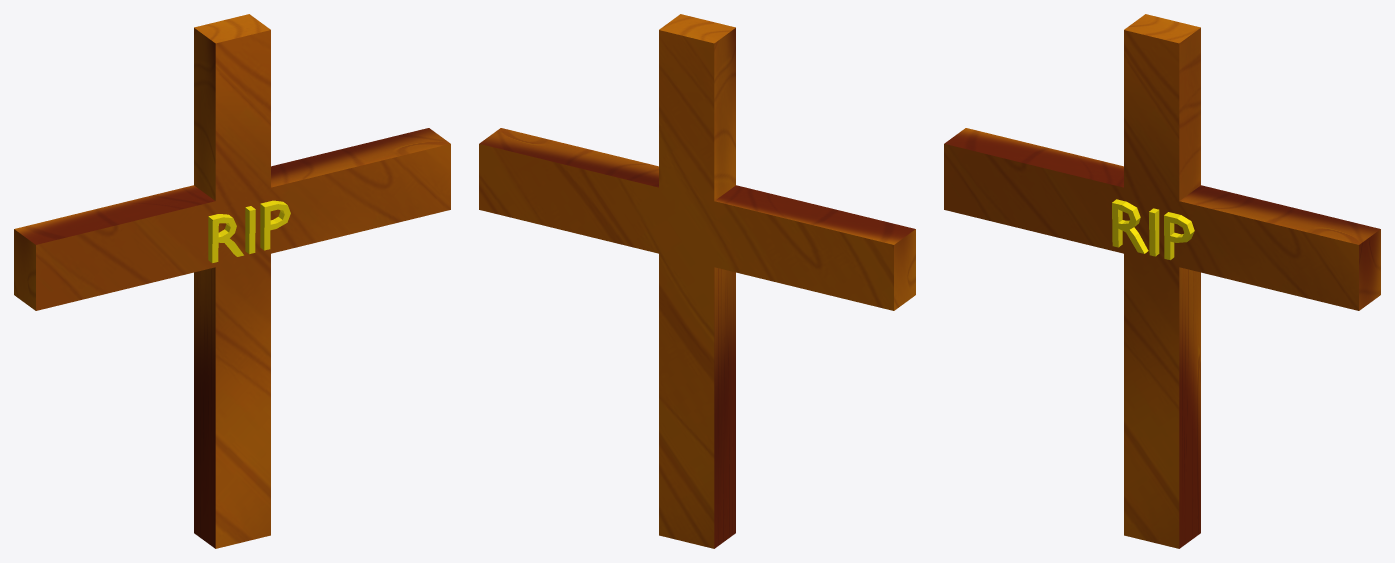
Rendered from cross-grave.fbx.
The picture shows the model from 3 angles, left to right: view 1: azimuth 30°, elevation 25°; view 2: azimuth 150°, elevation 25°; view 3: azimuth 330°, elevation 25°; orthographic projection.
Parts seen in each view (by area): view 1: Cube, Text; view 2: Cube; view 3: Cube, Text.
Part boxes in pixels (x1,y1,x2,y2): Cube: [14, 14, 450, 548]; Text: [208, 200, 290, 263]; Cube: [479, 14, 915, 548]; Cube: [944, 14, 1380, 548]; Text: [1112, 199, 1194, 260].
Bounding box in the file's own units: 395 × 460 × 43.49.
2 materials, 1 textured.
